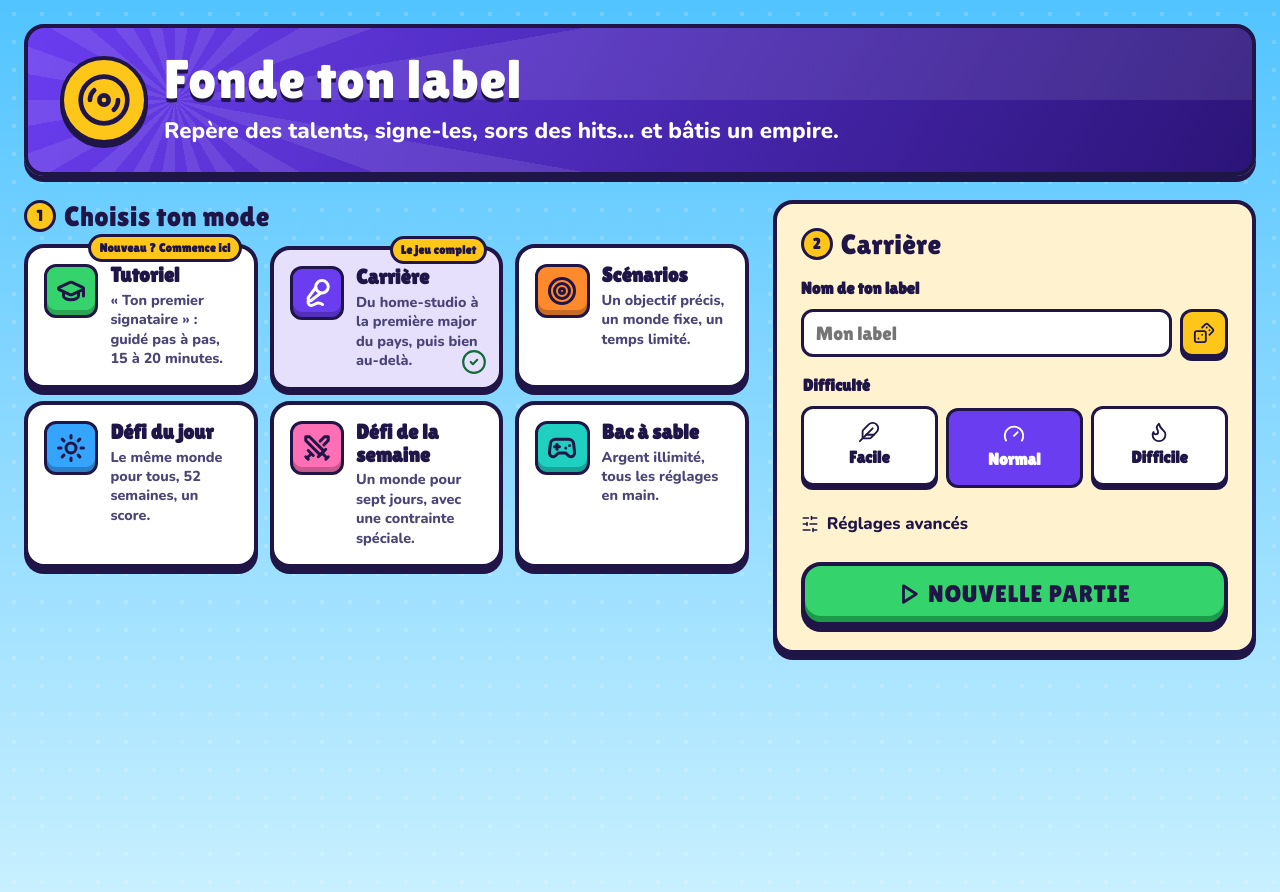
it: écran Calendrier › s’ouvre depuis la navigation et annonce l’absence de sortie
Click the button "Nouvelle partie".
click(1014, 594)  # box [801,562,1228,626]
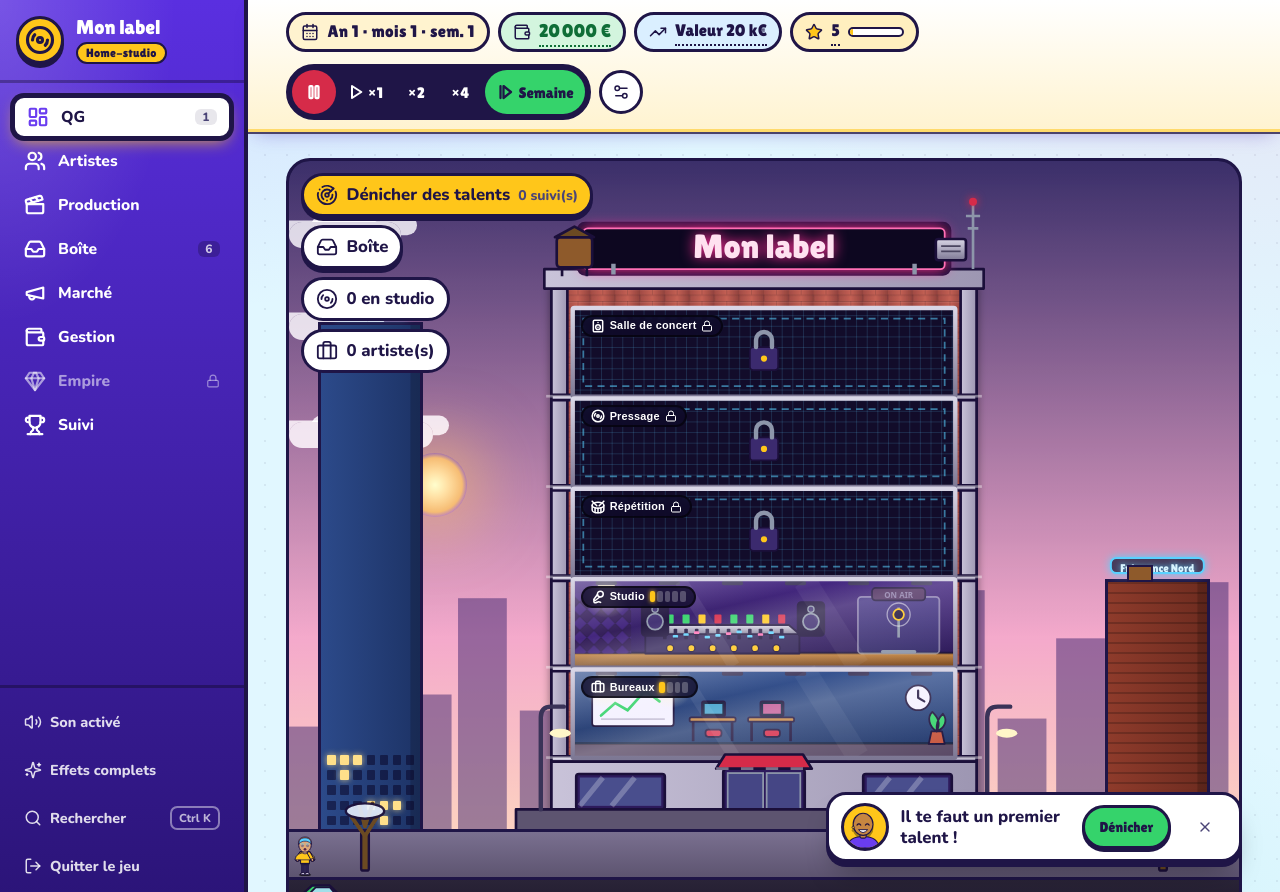
Click the button "Production".
click(122, 205)  # box [12,183,232,227]
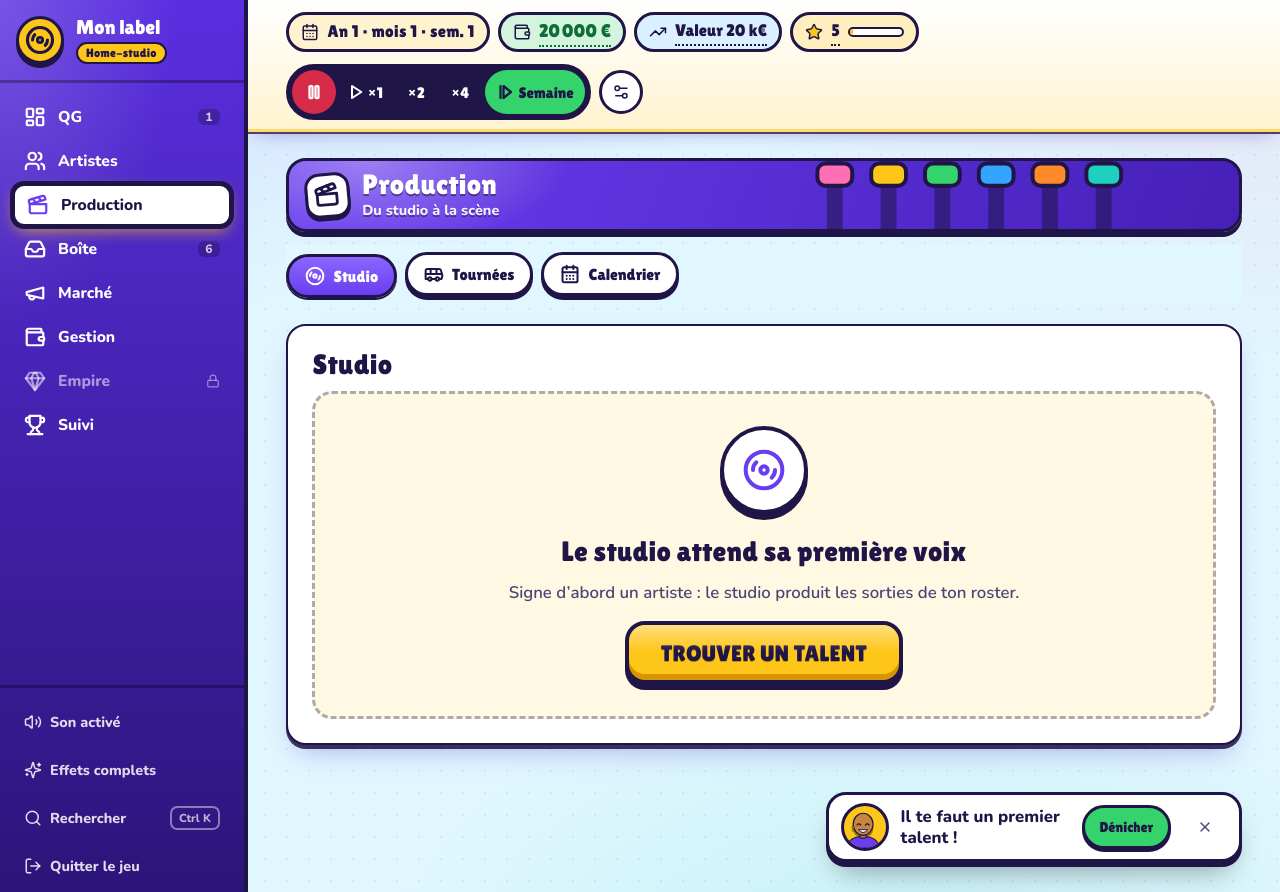
Click the tab "Calendrier".
click(610, 274)  # box [541,252,680,296]
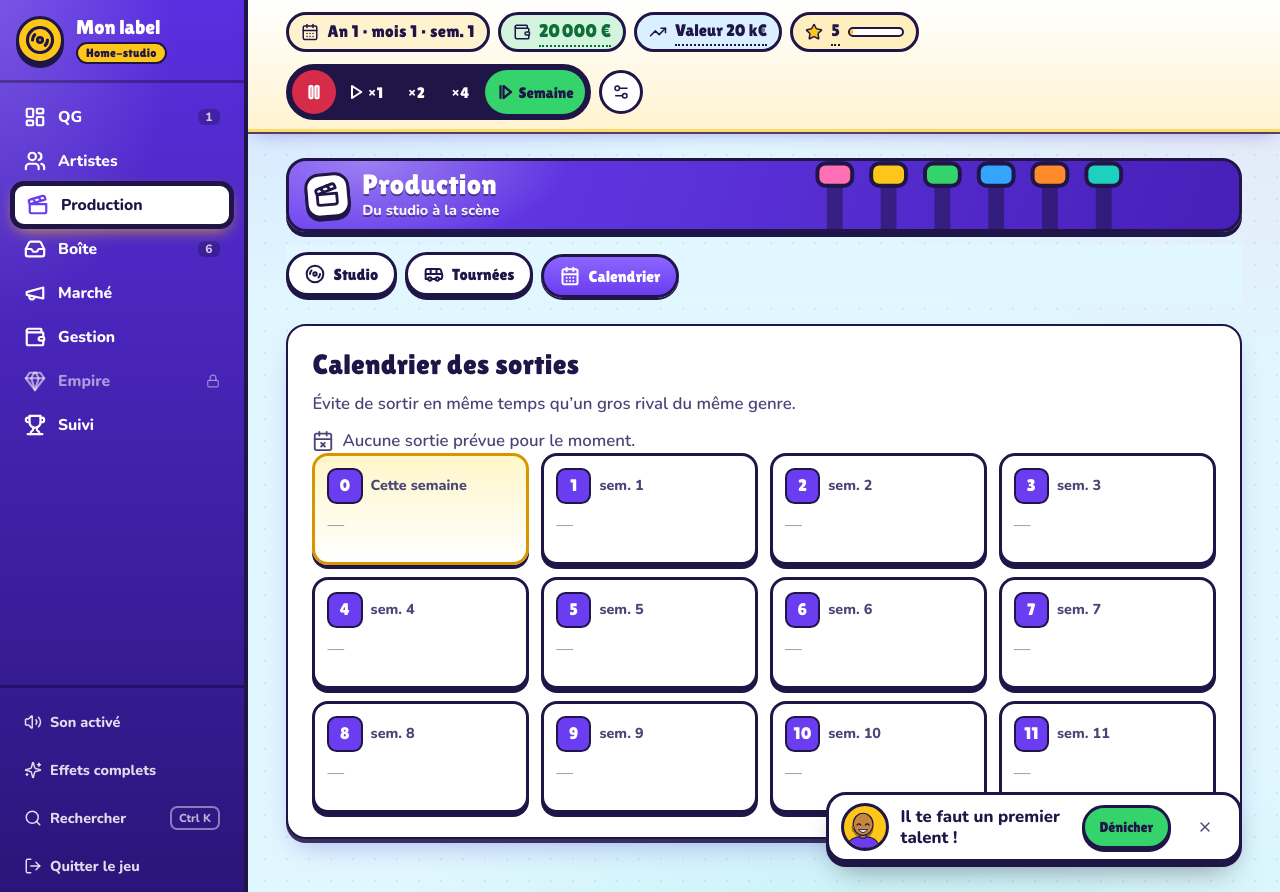
Now the 1st heading "Calendrier des sorties" is shown, box [24,22,264,51]
Now the number of list items with class "label-calendar__week" is 24
